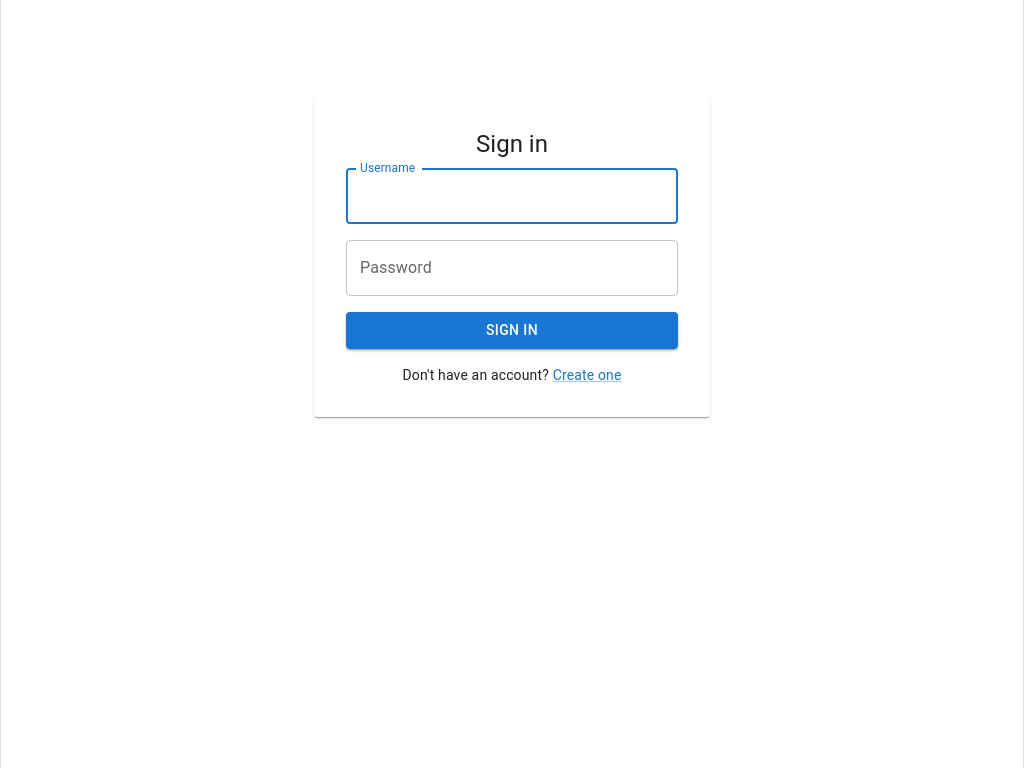
Test: LoginPage › clears field error when the user starts typing
Click the button "Sign in".
click(512, 331)  # box [346, 312, 678, 349]
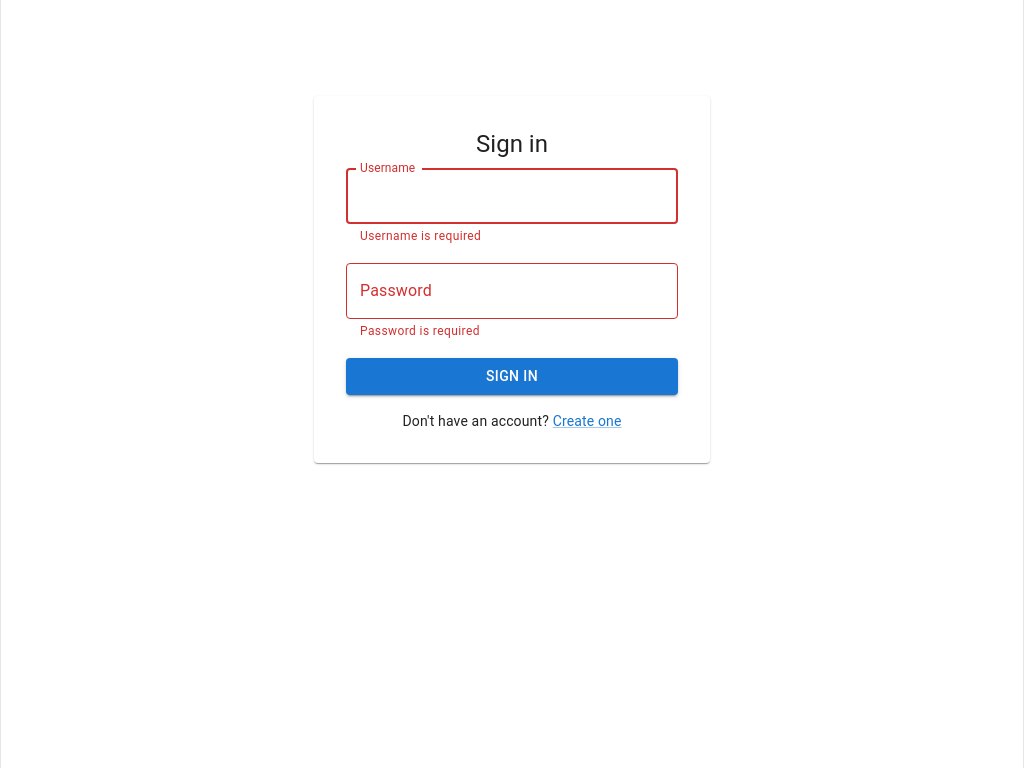
Expected: the text "Username is required" is shown, [360, 229, 481, 243]
Type "a" into the field labelled "Username".
click(512, 196); type("a")  # box [346, 168, 678, 224]
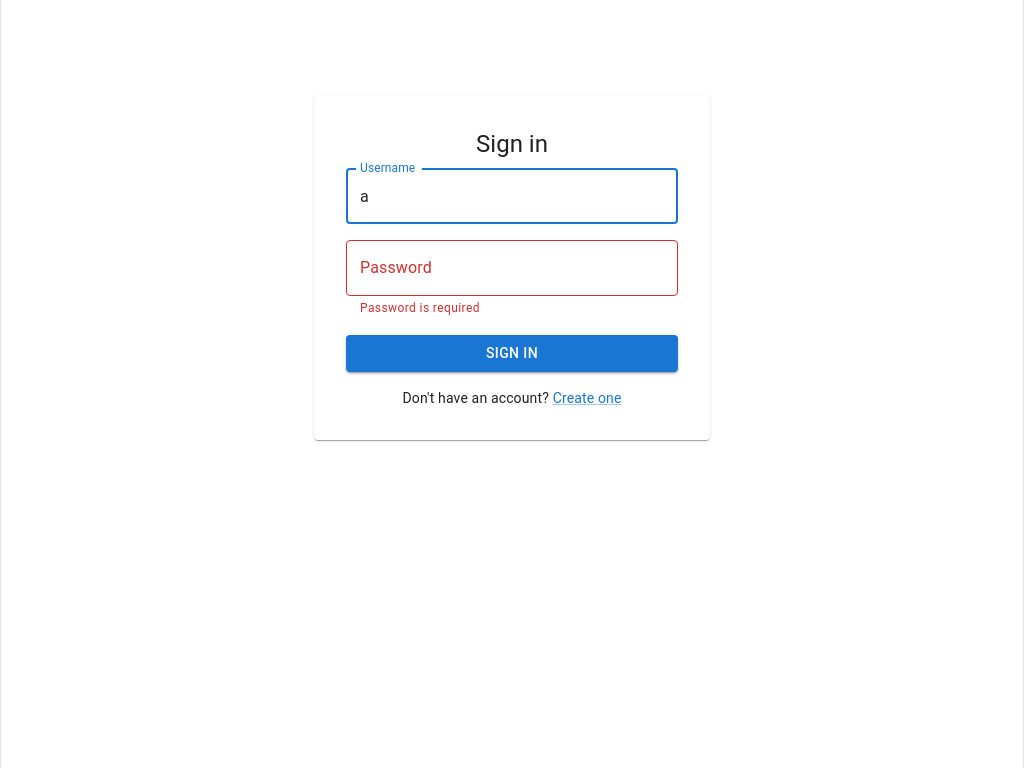
Expected: the text "Username is required" is gone
